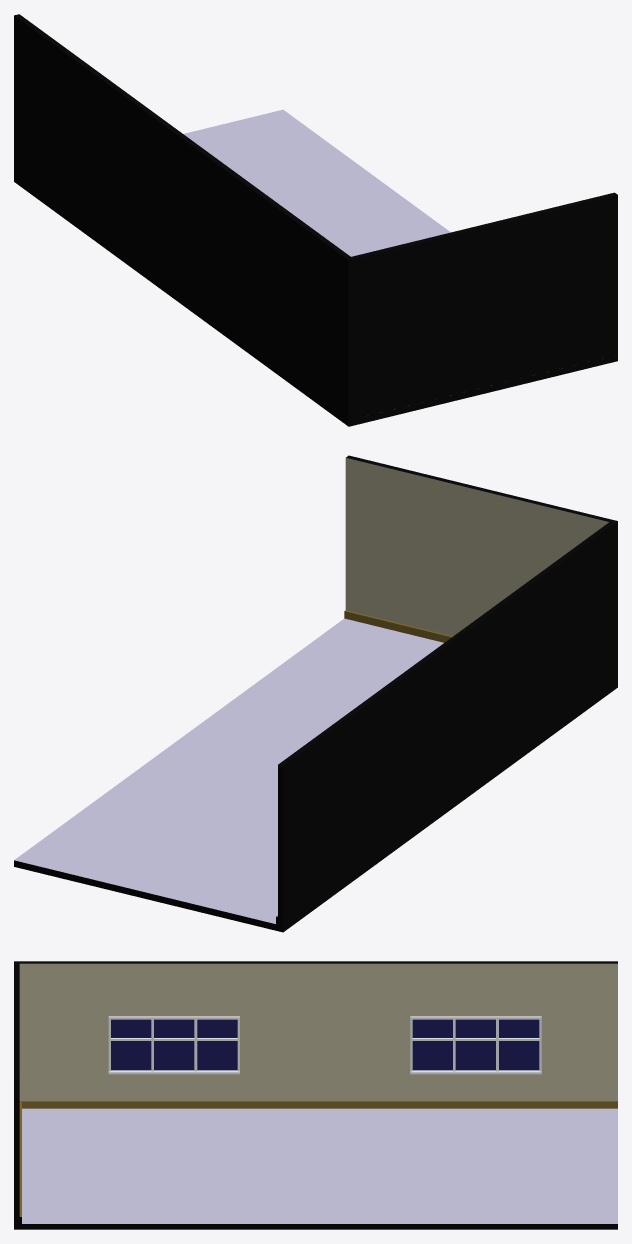
Rendered from room.fbx.
3 views of the same model, one above another, from view 1: azimuth 30°, elevation 25°; view 2: azimuth 150°, elevation 25°; view 3: azimuth 270°, elevation 25° (orthographic). The views are drawn at different scales.
Parts seen in each view (by area): view 1: Cube.002; view 2: Cube.002; view 3: Cube.002.
Boxes of the visible parts, x1=… form: Cube.002: x1=14, y1=14, x2=617, y2=426; Cube.002: x1=14, y1=455, x2=617, y2=932; Cube.002: x1=14, y1=961, x2=617, y2=1229.
Size of the model in its own units: 1204 by 711 by 2593.
